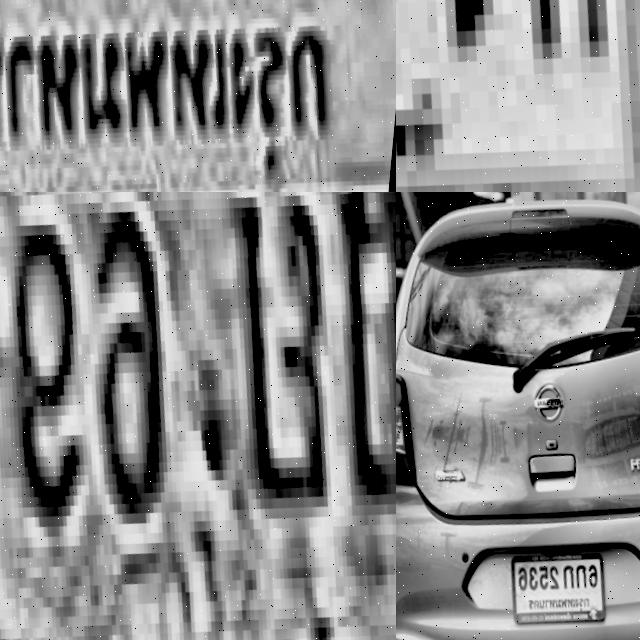license-plate: (0, 192, 396, 640), (0, 0, 396, 192), (396, 0, 640, 192), (508, 526, 624, 632)
